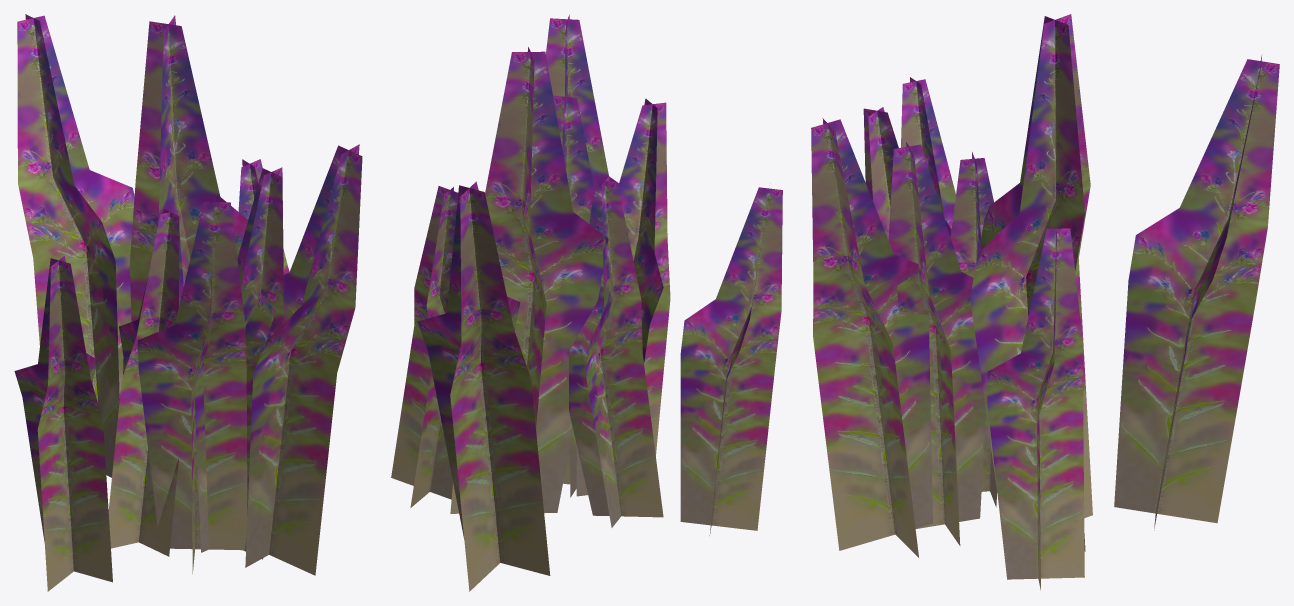
File: Flowering Plant 02 Variant 2.fbx
The picture shows the model from 3 angles, left to right: view 1: azimuth 30°, elevation 25°; view 2: azimuth 150°, elevation 25°; view 3: azimuth 270°, elevation 25°; orthographic projection. The views are drawn at different scales.
Visible parts, largest first — view 1: flowering_plant_02_2_LOD0; view 2: flowering_plant_02_2_LOD0; view 3: flowering_plant_02_2_LOD0.
Boxes of the visible parts, x1,y1,x2,y2 form: flowering_plant_02_2_LOD0: (14,14,362,591); flowering_plant_02_2_LOD0: (391,14,782,591); flowering_plant_02_2_LOD0: (811,14,1279,590).
Size of what is drawn, in the model's own units: 134 by 185 by 154.
1 material, 1 textured.
